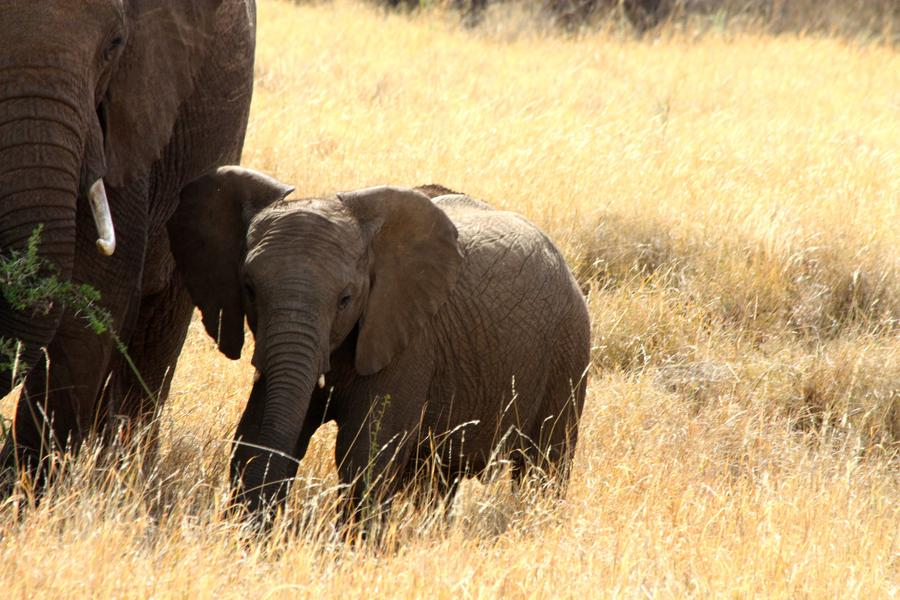elephant: (165, 190, 404, 384)
